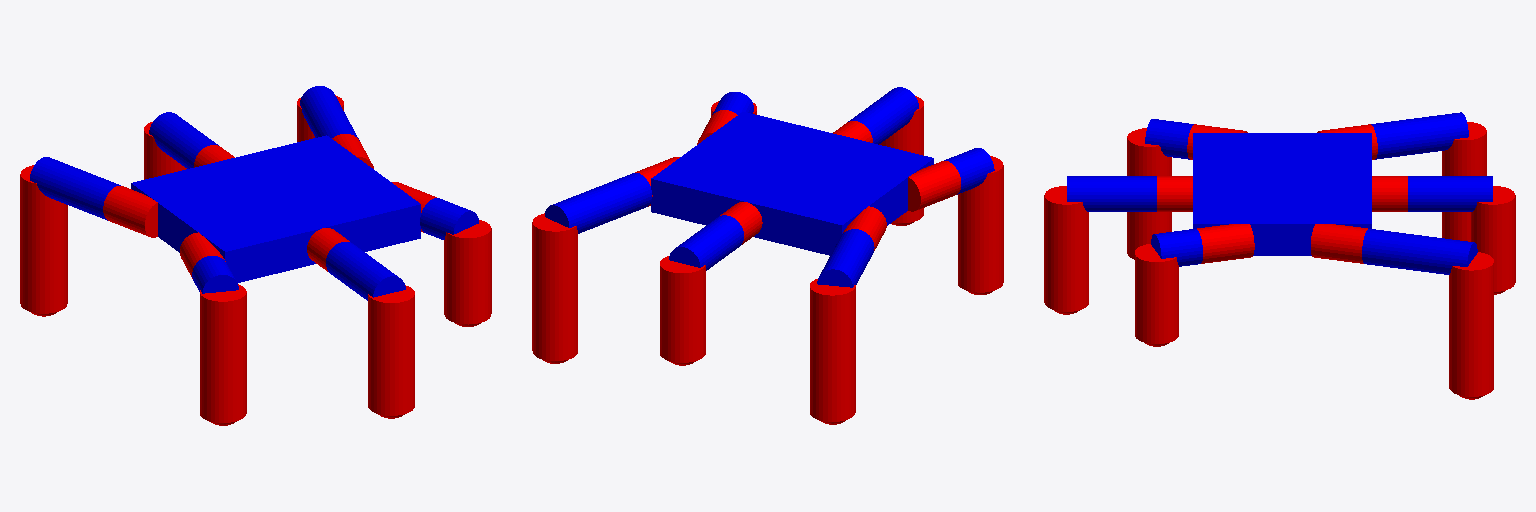
--- What the picture shows (computed from the rendered views, not written in the file) ---
Views: 3 orthographic renders of the robot side by side, from view 1: azimuth 30°, elevation 25°; view 2: azimuth 150°, elevation 25°; view 3: azimuth 270°, elevation 25°.
Robot: pexod — 19 links, 18 joints (18 revolute); root link base_link; default pose: all joints at 0.
Visible links, largest first — view 1: base_link, leg_5_3, leg_0_3, leg_4_3, leg_3_3, leg_0_2, leg_4_2, leg_0_1, leg_1_2, leg_2_2, leg_3_2, leg_5_2 (+4 smaller); view 2: base_link, leg_2_3, leg_0_3, leg_5_3, leg_1_3, leg_2_2, leg_1_2, leg_0_2, leg_4_2, leg_5_1, leg_4_3, leg_5_2 (+3 smaller); view 3: base_link, leg_2_3, leg_4_3, leg_3_3, leg_2_2, leg_1_3, leg_0_2, leg_4_2, leg_5_3, leg_1_2, leg_0_3, leg_3_1 (+5 smaller).
Boxes of the visible links, <box> form: base_link: <box>131,135,420,282</box>; leg_5_3: <box>200,284,246,425</box>; leg_0_3: <box>20,165,67,316</box>; leg_4_3: <box>368,285,414,418</box>; leg_3_3: <box>444,220,491,326</box>; leg_0_2: <box>30,157,120,220</box>; leg_4_2: <box>326,242,405,300</box>; leg_0_1: <box>103,186,157,237</box>; leg_1_2: <box>149,112,218,168</box>; leg_2_2: <box>300,86,359,140</box>; leg_3_2: <box>420,198,478,239</box>; leg_5_2: <box>192,256,238,293</box>; base_link: <box>651,112,933,255</box>; leg_2_3: <box>532,213,577,363</box>; leg_0_3: <box>810,279,855,424</box>; leg_5_3: <box>958,156,1003,294</box>; leg_1_3: <box>660,256,705,365</box>; leg_2_2: <box>545,173,651,233</box>; leg_1_2: <box>669,215,743,270</box>; leg_0_2: <box>817,229,874,287</box>; leg_4_2: <box>848,87,918,144</box>; leg_5_1: <box>908,161,960,211</box>; leg_4_3: <box>879,96,923,225</box>; leg_5_2: <box>944,148,994,194</box>; base_link: <box>1193,133,1371,255</box>; leg_2_3: <box>1449,252,1493,399</box>; leg_4_3: <box>1044,186,1088,314</box>; leg_3_3: <box>1135,244,1178,346</box>; leg_2_2: <box>1362,229,1477,274</box>; leg_1_3: <box>1471,186,1515,294</box>; leg_0_2: <box>1371,112,1468,159</box>; leg_4_2: <box>1067,176,1156,211</box>; leg_5_3: <box>1127,128,1171,259</box>; leg_1_2: <box>1408,176,1492,211</box>; leg_0_3: <box>1442,122,1486,241</box>; leg_3_1: <box>1197,224,1254,263</box>.
Bounding box of the posed robot: 0.3929 × 0.5251 × 0.188 m (x, y, z).
Geometry: primitives only (box / cylinder / sphere), no mesh files.

The robot description file, URDF, robot "pexod":
<?xml version="1.0" ?>
<!-- =================================================================================== -->
<!-- |    This document was autogenerated by xacro from pexod.xacro                    | -->
<!-- |    EDITING THIS FILE BY HAND IS NOT RECOMMENDED                                 | -->
<!-- =================================================================================== -->
<robot name="pexod" xmlns:xacro="http://www.ros.org/wiki/xacro">
  <!-- <xacro:include filename="$(find pexod_description)/urdf/pexod_control.xacro" /> -->
  <!-- MATERIALS -->
  <material name="Blue">
    <color rgba="0 0 1 1"/>
  </material>
  <material name="Red">
    <color rgba="1 0 0 1"/>
  </material>
  <material name="Green">
    <color rgba="0 1 0 1"/>
  </material>
  <material name="Yellow">
    <color rgba="1 1 0 1"/>
  </material>
  <material name="LightGrey">
    <color rgba="0.6 0.6 0.6 1.0"/>
  </material>
  <!-- END OF MATERIALS -->
  <!-- XACRO MACROS FOR VISUALS AND COLLISIONS -->
  <!-- END OF XACRO MACROS -->
  <!-- TORSO -->
  <link name="base_link">
    <visual>
      <origin rpy="0 0 0" xyz="0 0 0"/>
      <geometry>
        <box size="0.24 0.2 0.04"/>
      </geometry>
      <material name="Blue"/>
    </visual>
    <collision>
      <origin rpy="0 0 0" xyz="0 0 0"/>
      <geometry>
        <box size="0.24 0.2 0.04"/>
      </geometry>
    </collision>
    <inertial>
      <!-- CENTER OF MASS -->
      <origin rpy="0 0 0" xyz="0 0 0"/>
      <mass value="1.031"/>
      <!-- box inertia: 1/12*m(y^2+z^2), ... -->
      <inertia ixx="0.00357413333333" ixy="0" ixz="0" iyy="0.00508626666667" iyz="0" izz="0.00838546666667"/>
    </inertial>
  </link>
  <!-- XACRO MACRO FOR LEGS LINKS/JOINTS -->
  <!-- END OF LEG LINKS/JOINTS -->
  <joint name="body_leg_2" type="revolute">
    <parent link="base_link"/>
    <child link="leg_2_1"/>
    <limit effort="30.0" lower="-1.57079632679" upper="1.57079632679" velocity="7.0"/>
    <origin rpy="0 0 -0.3" xyz="0.11 0.04 0"/>
    <!-- <xacro:if value="${index == 5 or index == 4 or index == 3}">
                <axis xyz="0 0 1"/>
            </xacro:if>
            <xacro:if value="${index == 2 or index == 1 or index == 0}"> -->
    <axis xyz="0 0 1"/>
    <!-- </xacro:if> -->
    <dynamics damping="0.0"/>
  </joint>
  <link name="leg_2_1">
    <visual>
      <origin rpy="1.57079632679 0 0" xyz="0.01 0.03 0"/>
      <geometry>
        <cylinder length="0.06" radius="0.02"/>
      </geometry>
      <material name="Red"/>
    </visual>
    <collision>
      <origin rpy="1.57079632679 0 0" xyz="0.01 0.03 0"/>
      <geometry>
        <box size="0.02 0.02 0.06"/>
      </geometry>
    </collision>
    <inertial>
      <!-- CENTER OF MASS -->
      <origin rpy="1.57079632679 0 0" xyz="0.01 0.03 0"/>
      <mass value="0.02"/>
      <!-- box inertia: 1/12*m(y^2+z^2), ... -->
      <inertia ixx="6.66666666667e-06" ixy="0" ixz="0" iyy="6.66666666667e-06" iyz="0" izz="1.33333333333e-06"/>
    </inertial>
  </link>
  <joint name="leg_2_1_2" type="revolute">
    <parent link="leg_2_1"/>
    <child link="leg_2_2"/>
    <limit effort="30.0" lower="-0.78539816339" upper="0.78539816339" velocity="7.0"/>
    <origin rpy="0 0 0" xyz="0 0.06 0"/>
    <axis xyz="1 0 0"/>
    <dynamics damping="0.0"/>
  </joint>
  <link name="leg_2_2">
    <visual>
      <origin rpy="1.57079632679 0 0" xyz="0.01 0.0613777986145 0"/>
      <geometry>
        <cylinder length="0.122755597229" radius="0.02"/>
      </geometry>
      <material name="Blue"/>
    </visual>
    <collision>
      <origin rpy="1.57079632679 0 0" xyz="0.01 0.0613777986145 0"/>
      <geometry>
        <box size="0.02 0.02 0.122755597229"/>
      </geometry>
    </collision>
    <inertial>
      <!-- CENTER OF MASS -->
      <origin rpy="1.57079632679 0 0" xyz="0.01 0.0613777986145 0"/>
      <mass value="0.184"/>
      <!-- box inertia: 1/12*m(y^2+z^2), ... -->
      <inertia ixx="0.000237190361983" ixy="0" ixz="0" iyy="0.000237190361983" iyz="0" izz="1.22666666667e-05"/>
    </inertial>
  </link>
  <joint name="leg_2_2_3" type="revolute">
    <parent link="leg_2_2"/>
    <child link="leg_2_3"/>
    <limit effort="30.0" lower="-0.78539816339" upper="0.78539816339" velocity="7.0"/>
    <origin rpy="-1.57079632679 0 0" xyz="0 0.122755597229 0"/>
    <axis xyz="-1 0 0"/>
    <dynamics damping="0.0"/>
  </joint>
  <link name="leg_2_3">
    <visual>
      <origin rpy="1.57079632679 0 0" xyz="0.0125 0.0777390199635 0"/>
      <geometry>
        <cylinder length="0.155478039927" radius="0.025"/>
      </geometry>
      <material name="Red"/>
    </visual>
    <visual>
      <origin rpy="1.57079632679 0 0" xyz="0.0125 0.142978039927 0"/>
      <geometry>
        <sphere radius="0.025"/>
      </geometry>
      <material name="Red"/>
    </visual>
    <collision>
      <origin rpy="1.57079632679 0 0" xyz="0.0125 0.0777390199635 0"/>
      <geometry>
        <box size="0.025 0.025 0.155478039927"/>
      </geometry>
    </collision>
    <collision>
      <origin rpy="1.57079632679 0 0" xyz="0.0125 0.142978039927 0"/>
      <geometry>
        <sphere radius="0.025"/>
      </geometry>
      <material name="Red"/>
    </collision>
    <inertial>
      <!-- CENTER OF MASS -->
      <origin rpy="1.57079632679 0 0" xyz="0.0125 0.0777390199635 0"/>
      <mass value="0.04"/>
      <!-- box inertia: 1/12*m(y^2+z^2), ... -->
      <inertia ixx="8.26614029985e-05" ixy="0" ixz="0" iyy="8.26614029985e-05" iyz="0" izz="4.16666666667e-06"/>
    </inertial>
  </link>
  <joint name="body_leg_3" type="revolute">
    <parent link="base_link"/>
    <child link="leg_3_1"/>
    <limit effort="30.0" lower="-1.57079632679" upper="1.57079632679" velocity="7.0"/>
    <origin rpy="0 0 0.3" xyz="0.11 -0.04 0"/>
    <!-- <xacro:if value="${index == 5 or index == 4 or index == 3}">
                <axis xyz="0 0 1"/>
            </xacro:if>
            <xacro:if value="${index == 2 or index == 1 or index == 0}"> -->
    <axis xyz="0 0 1"/>
    <!-- </xacro:if> -->
    <dynamics damping="0.0"/>
  </joint>
  <link name="leg_3_1">
    <visual>
      <origin rpy="1.57079632679 0 0" xyz="0.01 -0.03 0"/>
      <geometry>
        <cylinder length="0.06" radius="0.02"/>
      </geometry>
      <material name="Red"/>
    </visual>
    <collision>
      <origin rpy="1.57079632679 0 0" xyz="0.01 -0.03 0"/>
      <geometry>
        <box size="0.02 0.02 0.06"/>
      </geometry>
    </collision>
    <inertial>
      <!-- CENTER OF MASS -->
      <origin rpy="1.57079632679 0 0" xyz="0.01 -0.03 0"/>
      <mass value="0.02"/>
      <!-- box inertia: 1/12*m(y^2+z^2), ... -->
      <inertia ixx="6.66666666667e-06" ixy="0" ixz="0" iyy="6.66666666667e-06" iyz="0" izz="1.33333333333e-06"/>
    </inertial>
  </link>
  <joint name="leg_3_1_2" type="revolute">
    <parent link="leg_3_1"/>
    <child link="leg_3_2"/>
    <limit effort="30.0" lower="-0.78539816339" upper="0.78539816339" velocity="7.0"/>
    <origin rpy="0 0 0" xyz="0 -0.06 0"/>
    <axis xyz="-1 0 0"/>
    <dynamics damping="0.0"/>
  </joint>
  <link name="leg_3_2">
    <visual>
      <origin rpy="1.57079632679 0 0" xyz="0.01 -0.0242686603485 0"/>
      <geometry>
        <cylinder length="0.0485373206971" radius="0.02"/>
      </geometry>
      <material name="Blue"/>
    </visual>
    <collision>
      <origin rpy="1.57079632679 0 0" xyz="0.01 -0.0242686603485 0"/>
      <geometry>
        <box size="0.02 0.02 0.0485373206971"/>
      </geometry>
    </collision>
    <inertial>
      <!-- CENTER OF MASS -->
      <origin rpy="1.57079632679 0 0" xyz="0.01 -0.0242686603485 0"/>
      <mass value="0.184"/>
      <!-- box inertia: 1/12*m(y^2+z^2), ... -->
      <inertia ixx="4.22566963403e-05" ixy="0" ixz="0" iyy="4.22566963403e-05" iyz="0" izz="1.22666666667e-05"/>
    </inertial>
  </link>
  <joint name="leg_3_2_3" type="revolute">
    <parent link="leg_3_2"/>
    <child link="leg_3_3"/>
    <limit effort="30.0" lower="-0.78539816339" upper="0.78539816339" velocity="7.0"/>
    <origin rpy="1.57079632679 0 0" xyz="0 -0.0485373206971 0"/>
    <axis xyz="1 0 0"/>
    <dynamics damping="0.0"/>
  </joint>
  <link name="leg_3_3">
    <visual>
      <origin rpy="1.57079632679 0 0" xyz="0.0125 -0.05043311873 0"/>
      <geometry>
        <cylinder length="0.10086623746" radius="0.025"/>
      </geometry>
      <material name="Red"/>
    </visual>
    <visual>
      <origin rpy="1.57079632679 0 0" xyz="0.0125 -0.08836623746 0"/>
      <geometry>
        <sphere radius="0.025"/>
      </geometry>
      <material name="Red"/>
    </visual>
    <collision>
      <origin rpy="1.57079632679 0 0" xyz="0.0125 -0.05043311873 0"/>
      <geometry>
        <box size="0.025 0.025 0.10086623746"/>
      </geometry>
    </collision>
    <collision>
      <origin rpy="1.57079632679 0 0" xyz="0.0125 -0.08836623746 0"/>
      <geometry>
        <sphere radius="0.025"/>
      </geometry>
      <material name="Red"/>
    </collision>
    <inertial>
      <!-- CENTER OF MASS -->
      <origin rpy="1.57079632679 0 0" xyz="0.0125 -0.05043311873 0"/>
      <mass value="0.04"/>
      <!-- box inertia: 1/12*m(y^2+z^2), ... -->
      <inertia ixx="3.59966595311e-05" ixy="0" ixz="0" iyy="3.59966595311e-05" iyz="0" izz="4.16666666667e-06"/>
    </inertial>
  </link>
  <joint name="body_leg_0" type="revolute">
    <parent link="base_link"/>
    <child link="leg_0_1"/>
    <limit effort="30.0" lower="-1.57079632679" upper="1.57079632679" velocity="7.0"/>
    <origin rpy="0 0 0.3" xyz="-0.13 0.04 0"/>
    <!-- <xacro:if value="${index == 5 or index == 4 or index == 3}">
                <axis xyz="0 0 1"/>
            </xacro:if>
            <xacro:if value="${index == 2 or index == 1 or index == 0}"> -->
    <axis xyz="0 0 1"/>
    <!-- </xacro:if> -->
    <dynamics damping="0.0"/>
  </joint>
  <link name="leg_0_1">
    <visual>
      <origin rpy="1.57079632679 0 0" xyz="0.01 0.03 0"/>
      <geometry>
        <cylinder length="0.06" radius="0.02"/>
      </geometry>
      <material name="Red"/>
    </visual>
    <collision>
      <origin rpy="1.57079632679 0 0" xyz="0.01 0.03 0"/>
      <geometry>
        <box size="0.02 0.02 0.06"/>
      </geometry>
    </collision>
    <inertial>
      <!-- CENTER OF MASS -->
      <origin rpy="1.57079632679 0 0" xyz="0.01 0.03 0"/>
      <mass value="0.02"/>
      <!-- box inertia: 1/12*m(y^2+z^2), ... -->
      <inertia ixx="6.66666666667e-06" ixy="0" ixz="0" iyy="6.66666666667e-06" iyz="0" izz="1.33333333333e-06"/>
    </inertial>
  </link>
  <joint name="leg_0_1_2" type="revolute">
    <parent link="leg_0_1"/>
    <child link="leg_0_2"/>
    <limit effort="30.0" lower="-0.78539816339" upper="0.78539816339" velocity="7.0"/>
    <origin rpy="0 0 0" xyz="0 0.06 0"/>
    <axis xyz="1 0 0"/>
    <dynamics damping="0.0"/>
  </joint>
  <link name="leg_0_2">
    <visual>
      <origin rpy="1.57079632679 0 0" xyz="0.01 0.0531647216405 0"/>
      <geometry>
        <cylinder length="0.106329443281" radius="0.02"/>
      </geometry>
      <material name="Blue"/>
    </visual>
    <collision>
      <origin rpy="1.57079632679 0 0" xyz="0.01 0.0531647216405 0"/>
      <geometry>
        <box size="0.02 0.02 0.106329443281"/>
      </geometry>
    </collision>
    <inertial>
      <!-- CENTER OF MASS -->
      <origin rpy="1.57079632679 0 0" xyz="0.01 0.0531647216405 0"/>
      <mass value="0.184"/>
      <!-- box inertia: 1/12*m(y^2+z^2), ... -->
      <inertia ixx="0.00017949124113" ixy="0" ixz="0" iyy="0.00017949124113" iyz="0" izz="1.22666666667e-05"/>
    </inertial>
  </link>
  <joint name="leg_0_2_3" type="revolute">
    <parent link="leg_0_2"/>
    <child link="leg_0_3"/>
    <limit effort="30.0" lower="-0.78539816339" upper="0.78539816339" velocity="7.0"/>
    <origin rpy="-1.57079632679 0 0" xyz="0 0.106329443281 0"/>
    <axis xyz="-1 0 0"/>
    <dynamics damping="0.0"/>
  </joint>
  <link name="leg_0_3">
    <visual>
      <origin rpy="1.57079632679 0 0" xyz="0.0125 0.075848960916 0"/>
      <geometry>
        <cylinder length="0.151697921832" radius="0.025"/>
      </geometry>
      <material name="Red"/>
    </visual>
    <visual>
      <origin rpy="1.57079632679 0 0" xyz="0.0125 0.139197921832 0"/>
      <geometry>
        <sphere radius="0.025"/>
      </geometry>
      <material name="Red"/>
    </visual>
    <collision>
      <origin rpy="1.57079632679 0 0" xyz="0.0125 0.075848960916 0"/>
      <geometry>
        <box size="0.025 0.025 0.151697921832"/>
      </geometry>
    </collision>
    <collision>
      <origin rpy="1.57079632679 0 0" xyz="0.0125 0.139197921832 0"/>
      <geometry>
        <sphere radius="0.025"/>
      </geometry>
      <material name="Red"/>
    </collision>
    <inertial>
      <!-- CENTER OF MASS -->
      <origin rpy="1.57079632679 0 0" xyz="0.0125 0.075848960916 0"/>
      <mass value="0.04"/>
      <!-- box inertia: 1/12*m(y^2+z^2), ... -->
      <inertia ixx="7.87908649605e-05" ixy="0" ixz="0" iyy="7.87908649605e-05" iyz="0" izz="4.16666666667e-06"/>
    </inertial>
  </link>
  <joint name="body_leg_5" type="revolute">
    <parent link="base_link"/>
    <child link="leg_5_1"/>
    <limit effort="30.0" lower="-1.57079632679" upper="1.57079632679" velocity="7.0"/>
    <origin rpy="0 0 -0.3" xyz="-0.13 -0.04 0"/>
    <!-- <xacro:if value="${index == 5 or index == 4 or index == 3}">
                <axis xyz="0 0 1"/>
            </xacro:if>
            <xacro:if value="${index == 2 or index == 1 or index == 0}"> -->
    <axis xyz="0 0 1"/>
    <!-- </xacro:if> -->
    <dynamics damping="0.0"/>
  </joint>
  <link name="leg_5_1">
    <visual>
      <origin rpy="1.57079632679 0 0" xyz="0.01 -0.03 0"/>
      <geometry>
        <cylinder length="0.06" radius="0.02"/>
      </geometry>
      <material name="Red"/>
    </visual>
    <collision>
      <origin rpy="1.57079632679 0 0" xyz="0.01 -0.03 0"/>
      <geometry>
        <box size="0.02 0.02 0.06"/>
      </geometry>
    </collision>
    <inertial>
      <!-- CENTER OF MASS -->
      <origin rpy="1.57079632679 0 0" xyz="0.01 -0.03 0"/>
      <mass value="0.02"/>
      <!-- box inertia: 1/12*m(y^2+z^2), ... -->
      <inertia ixx="6.66666666667e-06" ixy="0" ixz="0" iyy="6.66666666667e-06" iyz="0" izz="1.33333333333e-06"/>
    </inertial>
  </link>
  <joint name="leg_5_1_2" type="revolute">
    <parent link="leg_5_1"/>
    <child link="leg_5_2"/>
    <limit effort="30.0" lower="-0.78539816339" upper="0.78539816339" velocity="7.0"/>
    <origin rpy="0 0 0" xyz="0 -0.06 0"/>
    <axis xyz="-1 0 0"/>
    <dynamics damping="0.0"/>
  </joint>
  <link name="leg_5_2">
    <visual>
      <origin rpy="1.57079632679 0 0" xyz="0.01 -0.0246135455043 0"/>
      <geometry>
        <cylinder length="0.0492270910086" radius="0.02"/>
      </geometry>
      <material name="Blue"/>
    </visual>
    <collision>
      <origin rpy="1.57079632679 0 0" xyz="0.01 -0.0246135455043 0"/>
      <geometry>
        <box size="0.02 0.02 0.0492270910086"/>
      </geometry>
    </collision>
    <inertial>
      <!-- CENTER OF MASS -->
      <origin rpy="1.57079632679 0 0" xyz="0.01 -0.0246135455043 0"/>
      <mass value="0.184"/>
      <!-- box inertia: 1/12*m(y^2+z^2), ... -->
      <inertia ixx="4.32906995006e-05" ixy="0" ixz="0" iyy="4.32906995006e-05" iyz="0" izz="1.22666666667e-05"/>
    </inertial>
  </link>
  <joint name="leg_5_2_3" type="revolute">
    <parent link="leg_5_2"/>
    <child link="leg_5_3"/>
    <limit effort="30.0" lower="-0.78539816339" upper="0.78539816339" velocity="7.0"/>
    <origin rpy="1.57079632679 0 0" xyz="0 -0.0492270910086 0"/>
    <axis xyz="1 0 0"/>
    <dynamics damping="0.0"/>
  </joint>
  <link name="leg_5_3">
    <visual>
      <origin rpy="1.57079632679 0 0" xyz="0.0125 -0.071011139894 0"/>
      <geometry>
        <cylinder length="0.142022279788" radius="0.025"/>
      </geometry>
      <material name="Red"/>
    </visual>
    <visual>
      <origin rpy="1.57079632679 0 0" xyz="0.0125 -0.129522279788 0"/>
      <geometry>
        <sphere radius="0.025"/>
      </geometry>
      <material name="Red"/>
    </visual>
    <collision>
      <origin rpy="1.57079632679 0 0" xyz="0.0125 -0.071011139894 0"/>
      <geometry>
        <box size="0.025 0.025 0.142022279788"/>
      </geometry>
    </collision>
    <collision>
      <origin rpy="1.57079632679 0 0" xyz="0.0125 -0.129522279788 0"/>
      <geometry>
        <sphere radius="0.025"/>
      </geometry>
      <material name="Red"/>
    </collision>
    <inertial>
      <!-- CENTER OF MASS -->
      <origin rpy="1.57079632679 0 0" xyz="0.0125 -0.071011139894 0"/>
      <mass value="0.04"/>
      <!-- box inertia: 1/12*m(y^2+z^2), ... -->
      <inertia ixx="6.93177598539e-05" ixy="0" ixz="0" iyy="6.93177598539e-05" iyz="0" izz="4.16666666667e-06"/>
    </inertial>
  </link>
  <joint name="body_leg_1" type="revolute">
    <parent link="base_link"/>
    <child link="leg_1_1"/>
    <limit effort="30.0" lower="-1.57079632679" upper="1.57079632679" velocity="7.0"/>
    <origin rpy="0 0 0" xyz="-0.01 0.08 0"/>
    <!-- <xacro:if value="${index == 5 or index == 4 or index == 3}">
                <axis xyz="0 0 1"/>
            </xacro:if>
            <xacro:if value="${index == 2 or index == 1 or index == 0}"> -->
    <axis xyz="0 0 1"/>
    <!-- </xacro:if> -->
    <dynamics damping="0.0"/>
  </joint>
  <link name="leg_1_1">
    <visual>
      <origin rpy="1.57079632679 0 0" xyz="0.01 0.03 0"/>
      <geometry>
        <cylinder length="0.06" radius="0.02"/>
      </geometry>
      <material name="Red"/>
    </visual>
    <collision>
      <origin rpy="1.57079632679 0 0" xyz="0.01 0.03 0"/>
      <geometry>
        <box size="0.02 0.02 0.06"/>
      </geometry>
    </collision>
    <inertial>
      <!-- CENTER OF MASS -->
      <origin rpy="1.57079632679 0 0" xyz="0.01 0.03 0"/>
      <mass value="0.02"/>
      <!-- box inertia: 1/12*m(y^2+z^2), ... -->
      <inertia ixx="6.66666666667e-06" ixy="0" ixz="0" iyy="6.66666666667e-06" iyz="0" izz="1.33333333333e-06"/>
    </inertial>
  </link>
  <joint name="leg_1_1_2" type="revolute">
    <parent link="leg_1_1"/>
    <child link="leg_1_2"/>
    <limit effort="30.0" lower="-0.78539816339" upper="0.78539816339" velocity="7.0"/>
    <origin rpy="0 0 0" xyz="0 0.06 0"/>
    <axis xyz="1 0 0"/>
    <dynamics damping="0.0"/>
  </joint>
  <link name="leg_1_2">
    <visual>
      <origin rpy="1.57079632679 0 0" xyz="0.01 0.0473469373331 0"/>
      <geometry>
        <cylinder length="0.0946938746663" radius="0.02"/>
      </geometry>
      <material name="Blue"/>
    </visual>
    <collision>
      <origin rpy="1.57079632679 0 0" xyz="0.01 0.0473469373331 0"/>
      <geometry>
        <box size="0.02 0.02 0.0946938746663"/>
      </geometry>
    </collision>
    <inertial>
      <!-- CENTER OF MASS -->
      <origin rpy="1.57079632679 0 0" xyz="0.01 0.0473469373331 0"/>
      <mass value="0.184"/>
      <!-- box inertia: 1/12*m(y^2+z^2), ... -->
      <inertia ixx="0.000143626258456" ixy="0" ixz="0" iyy="0.000143626258456" iyz="0" izz="1.22666666667e-05"/>
    </inertial>
  </link>
  <joint name="leg_1_2_3" type="revolute">
    <parent link="leg_1_2"/>
    <child link="leg_1_3"/>
    <limit effort="30.0" lower="-0.78539816339" upper="0.78539816339" velocity="7.0"/>
    <origin rpy="-1.57079632679 0 0" xyz="0 0.0946938746663 0"/>
    <axis xyz="-1 0 0"/>
    <dynamics damping="0.0"/>
  </joint>
  <link name="leg_1_3">
    <visual>
      <origin rpy="1.57079632679 0 0" xyz="0.0125 0.053695241266 0"/>
      <geometry>
        <cylinder length="0.107390482532" radius="0.025"/>
      </geometry>
      <material name="Red"/>
    </visual>
    <visual>
      <origin rpy="1.57079632679 0 0" xyz="0.0125 0.094890482532 0"/>
      <geometry>
        <sphere radius="0.025"/>
      </geometry>
      <material name="Red"/>
    </visual>
    <collision>
      <origin rpy="1.57079632679 0 0" xyz="0.0125 0.053695241266 0"/>
      <geometry>
        <box size="0.025 0.025 0.107390482532"/>
      </geometry>
    </collision>
    <collision>
      <origin rpy="1.57079632679 0 0" xyz="0.0125 0.094890482532 0"/>
      <geometry>
        <sphere radius="0.025"/>
      </geometry>
      <material name="Red"/>
    </collision>
    <inertial>
      <!-- CENTER OF MASS -->
      <origin rpy="1.57079632679 0 0" xyz="0.0125 0.053695241266 0"/>
      <mass value="0.04"/>
      <!-- box inertia: 1/12*m(y^2+z^2), ... -->
      <inertia ixx="4.05257191282e-05" ixy="0" ixz="0" iyy="4.05257191282e-05" iyz="0" izz="4.16666666667e-06"/>
    </inertial>
  </link>
  <joint name="body_leg_4" type="revolute">
    <parent link="base_link"/>
    <child link="leg_4_1"/>
    <limit effort="30.0" lower="-1.57079632679" upper="1.57079632679" velocity="7.0"/>
    <origin rpy="0 0 0" xyz="-0.01 -0.08 0"/>
    <!-- <xacro:if value="${index == 5 or index == 4 or index == 3}">
                <axis xyz="0 0 1"/>
            </xacro:if>
            <xacro:if value="${index == 2 or index == 1 or index == 0}"> -->
    <axis xyz="0 0 1"/>
    <!-- </xacro:if> -->
    <dynamics damping="0.0"/>
  </joint>
  <link name="leg_4_1">
    <visual>
      <origin rpy="1.57079632679 0 0" xyz="0.01 -0.03 0"/>
      <geometry>
        <cylinder length="0.06" radius="0.02"/>
      </geometry>
      <material name="Red"/>
    </visual>
    <collision>
      <origin rpy="1.57079632679 0 0" xyz="0.01 -0.03 0"/>
      <geometry>
        <box size="0.02 0.02 0.06"/>
      </geometry>
    </collision>
    <inertial>
      <!-- CENTER OF MASS -->
      <origin rpy="1.57079632679 0 0" xyz="0.01 -0.03 0"/>
      <mass value="0.02"/>
      <!-- box inertia: 1/12*m(y^2+z^2), ... -->
      <inertia ixx="6.66666666667e-06" ixy="0" ixz="0" iyy="6.66666666667e-06" iyz="0" izz="1.33333333333e-06"/>
    </inertial>
  </link>
  <joint name="leg_4_1_2" type="revolute">
    <parent link="leg_4_1"/>
    <child link="leg_4_2"/>
    <limit effort="30.0" lower="-0.78539816339" upper="0.78539816339" velocity="7.0"/>
    <origin rpy="0 0 0" xyz="0 -0.06 0"/>
    <axis xyz="-1 0 0"/>
    <dynamics damping="0.0"/>
  </joint>
  <link name="leg_4_2">
    <visual>
      <origin rpy="1.57079632679 0 0" xyz="0.01 -0.0502066554875 0"/>
      <geometry>
        <cylinder length="0.100413310975" radius="0.02"/>
      </geometry>
      <material name="Blue"/>
    </visual>
    <collision>
      <origin rpy="1.57079632679 0 0" xyz="0.01 -0.0502066554875 0"/>
      <geometry>
        <box size="0.02 0.02 0.100413310975"/>
      </geometry>
    </collision>
    <inertial>
      <!-- CENTER OF MASS -->
      <origin rpy="1.57079632679 0 0" xyz="0.01 -0.0502066554875 0"/>
      <mass value="0.184"/>
      <!-- box inertia: 1/12*m(y^2+z^2), ... -->
      <inertia ixx="0.000160736772988" ixy="0" ixz="0" iyy="0.000160736772988" iyz="0" izz="1.22666666667e-05"/>
    </inertial>
  </link>
  <joint name="leg_4_2_3" type="revolute">
    <parent link="leg_4_2"/>
    <child link="leg_4_3"/>
    <limit effort="30.0" lower="-0.78539816339" upper="0.78539816339" velocity="7.0"/>
    <origin rpy="1.57079632679 0 0" xyz="0 -0.100413310975 0"/>
    <axis xyz="1 0 0"/>
    <dynamics damping="0.0"/>
  </joint>
  <link name="leg_4_3">
    <visual>
      <origin rpy="1.57079632679 0 0" xyz="0.0125 -0.065970167439 0"/>
      <geometry>
        <cylinder length="0.131940334878" radius="0.025"/>
      </geometry>
      <material name="Red"/>
    </visual>
    <visual>
      <origin rpy="1.57079632679 0 0" xyz="0.0125 -0.119440334878 0"/>
      <geometry>
        <sphere radius="0.025"/>
      </geometry>
      <material name="Red"/>
    </visual>
    <collision>
      <origin rpy="1.57079632679 0 0" xyz="0.0125 -0.065970167439 0"/>
      <geometry>
        <box size="0.025 0.025 0.131940334878"/>
      </geometry>
    </collision>
    <collision>
      <origin rpy="1.57079632679 0 0" xyz="0.0125 -0.119440334878 0"/>
      <geometry>
        <sphere radius="0.025"/>
      </geometry>
      <material name="Red"/>
    </collision>
    <inertial>
      <!-- CENTER OF MASS -->
      <origin rpy="1.57079632679 0 0" xyz="0.0125 -0.065970167439 0"/>
      <mass value="0.04"/>
      <!-- box inertia: 1/12*m(y^2+z^2), ... -->
      <inertia ixx="6.01108398924e-05" ixy="0" ixz="0" iyy="6.01108398924e-05" iyz="0" izz="4.16666666667e-06"/>
    </inertial>
  </link>
  <!-- END OF LEG LINKS/JOINTS -->
</robot>
